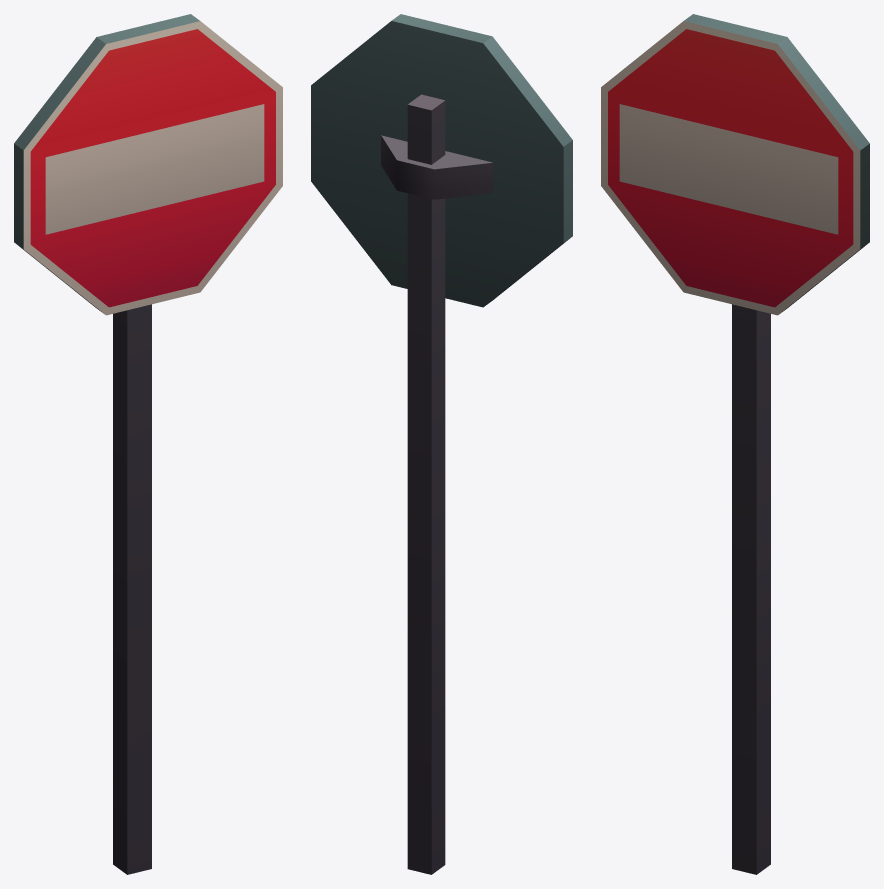
File: Streetsign_2D.fbx
3 renders of one model, left to right at view 1: azimuth 30°, elevation 25°; view 2: azimuth 150°, elevation 25°; view 3: azimuth 330°, elevation 25°, orthographic. The views are drawn at different scales.
Parts seen in each view (by area): view 1: Streetsign_2D; view 2: Streetsign_2D; view 3: Streetsign_2D.
Part boxes in pixels (x1,y1,x2,y2): Streetsign_2D: (14, 14, 282, 874); Streetsign_2D: (311, 14, 572, 874); Streetsign_2D: (601, 14, 869, 874).
Bounding box in the file's own units: 93.34 × 292 × 20.83.
